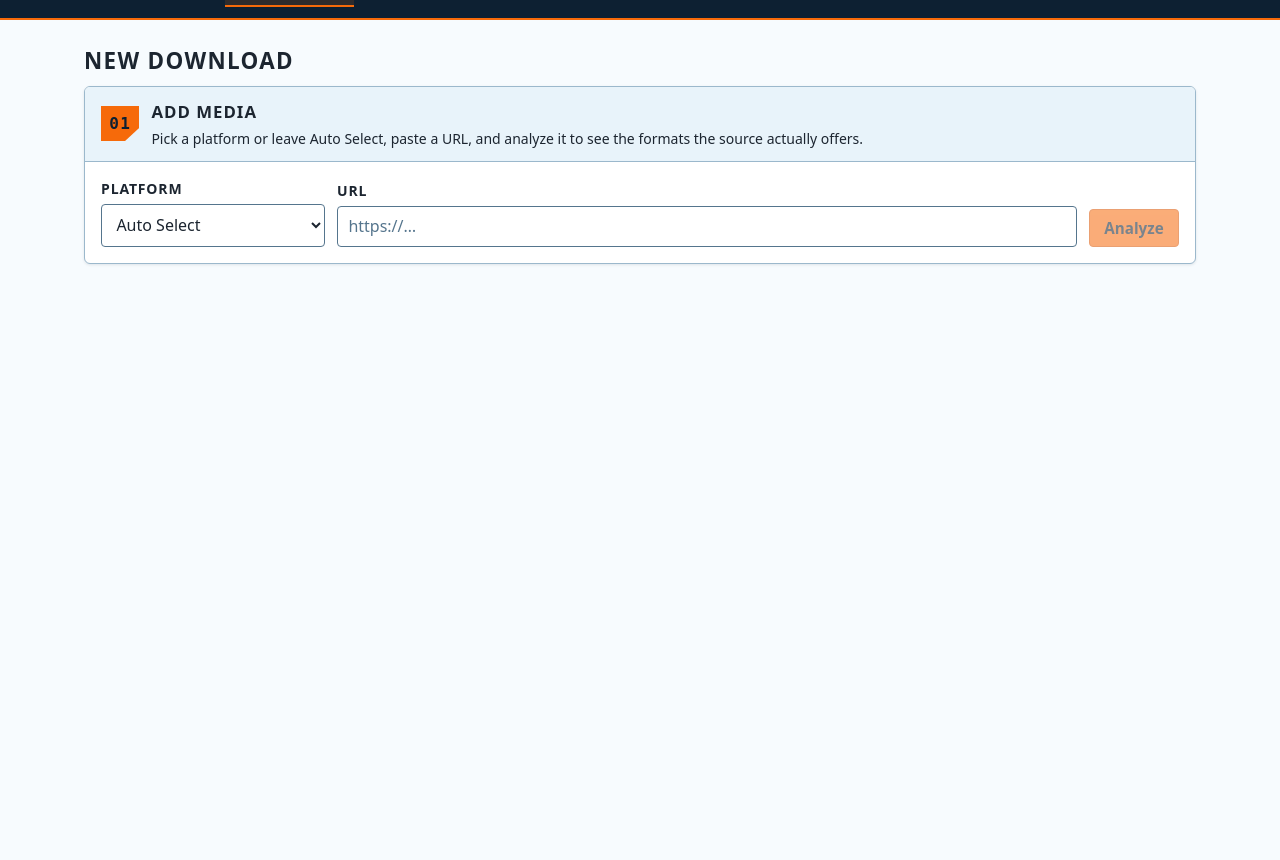
Test: NewDownloadPage activity flow › loads REST history on expand and appends matching live SSE events
The width and height of the screenshot is (1280, 860).
Type "https://www.youtube.com/watch?v=abc123" into the field labelled "URL". click: [707, 226]
box: [337,206,1077,247]
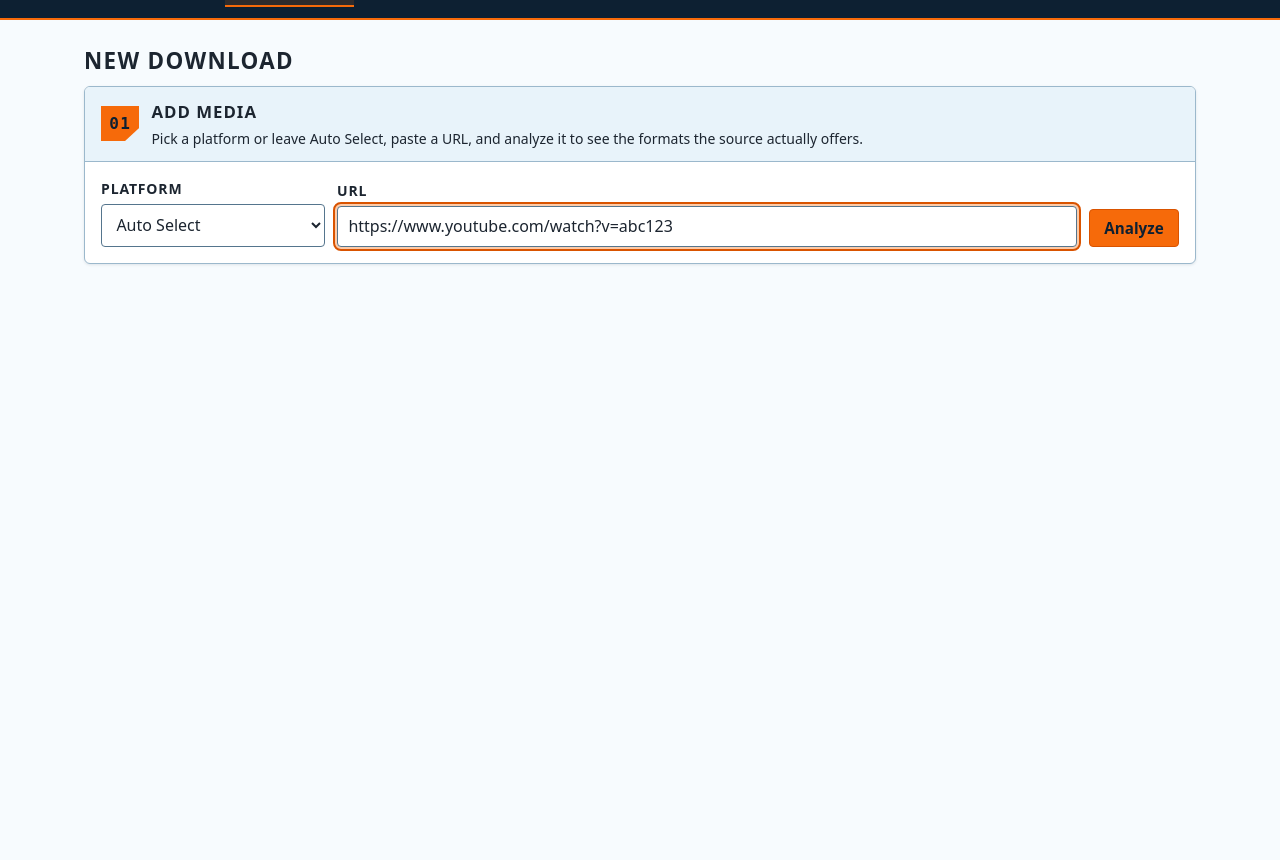
Click the button "Analyze". click: [1134, 228]
box: [1089,209,1179,247]
(page scrolled)
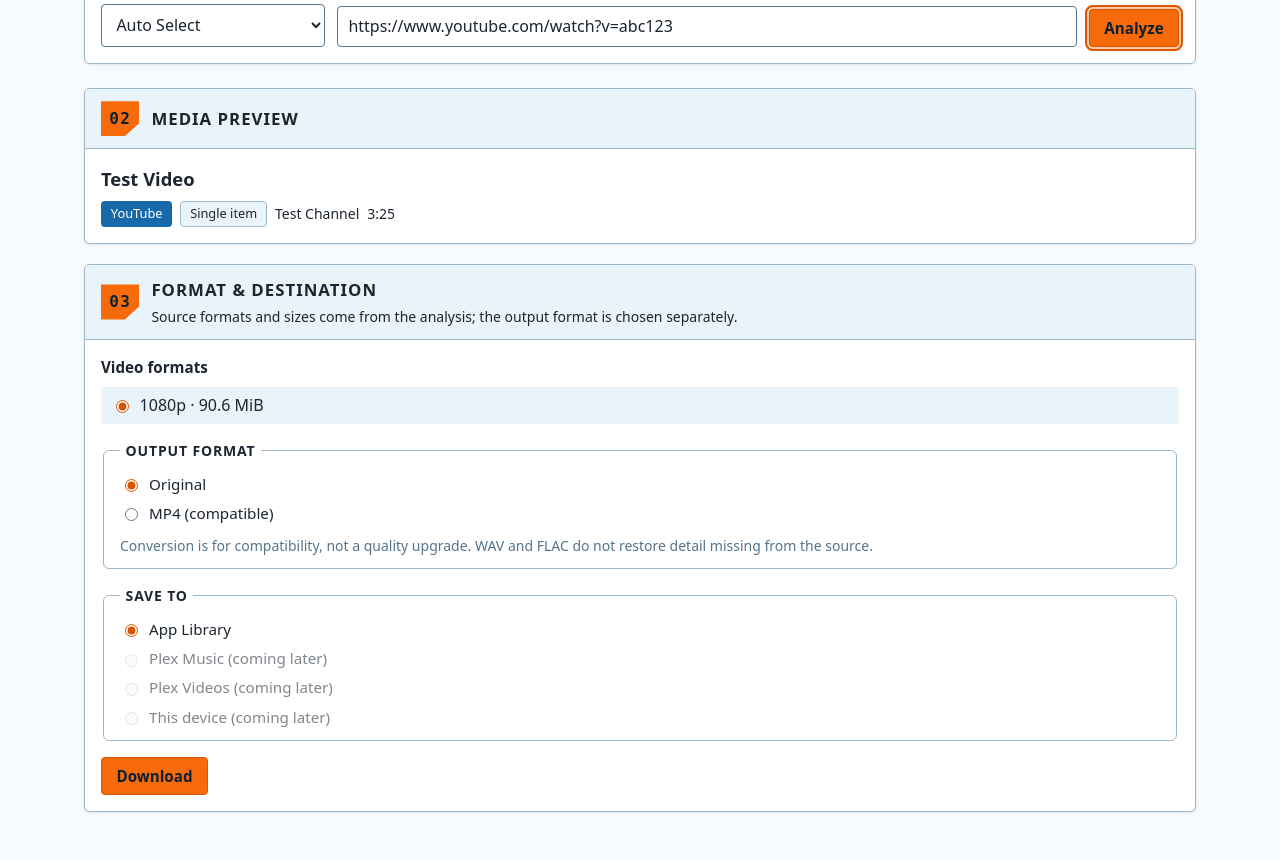
Now the heading "Test Video" is shown, box [101,166,195,191]
Click the button "Download". click: [154, 776]
box: [101,757,208,795]
(page scrolled)
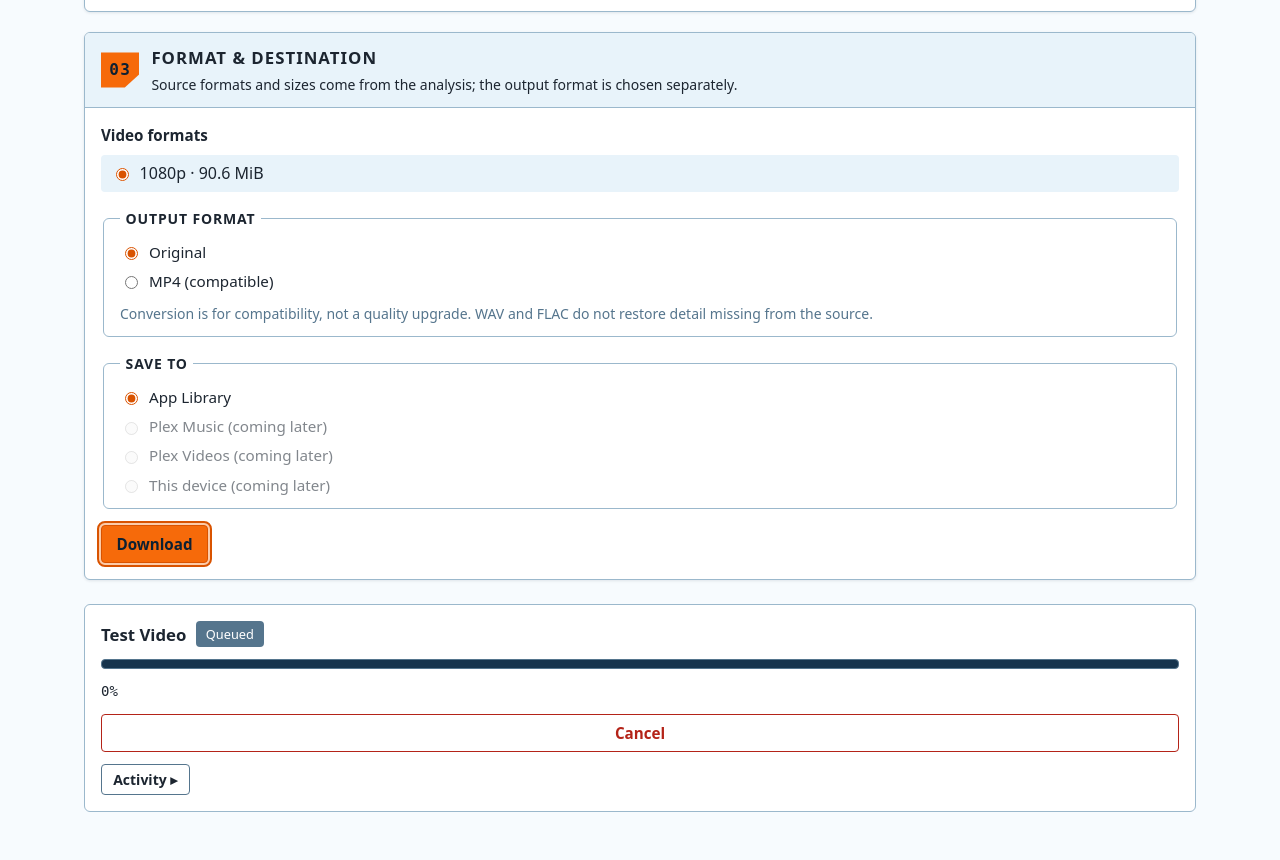
Now the text "Queued" is shown, box [196,621,264,647]
Click the button "Activity ▸". click: [145, 779]
box: [101,764,190,795]
(page scrolled)
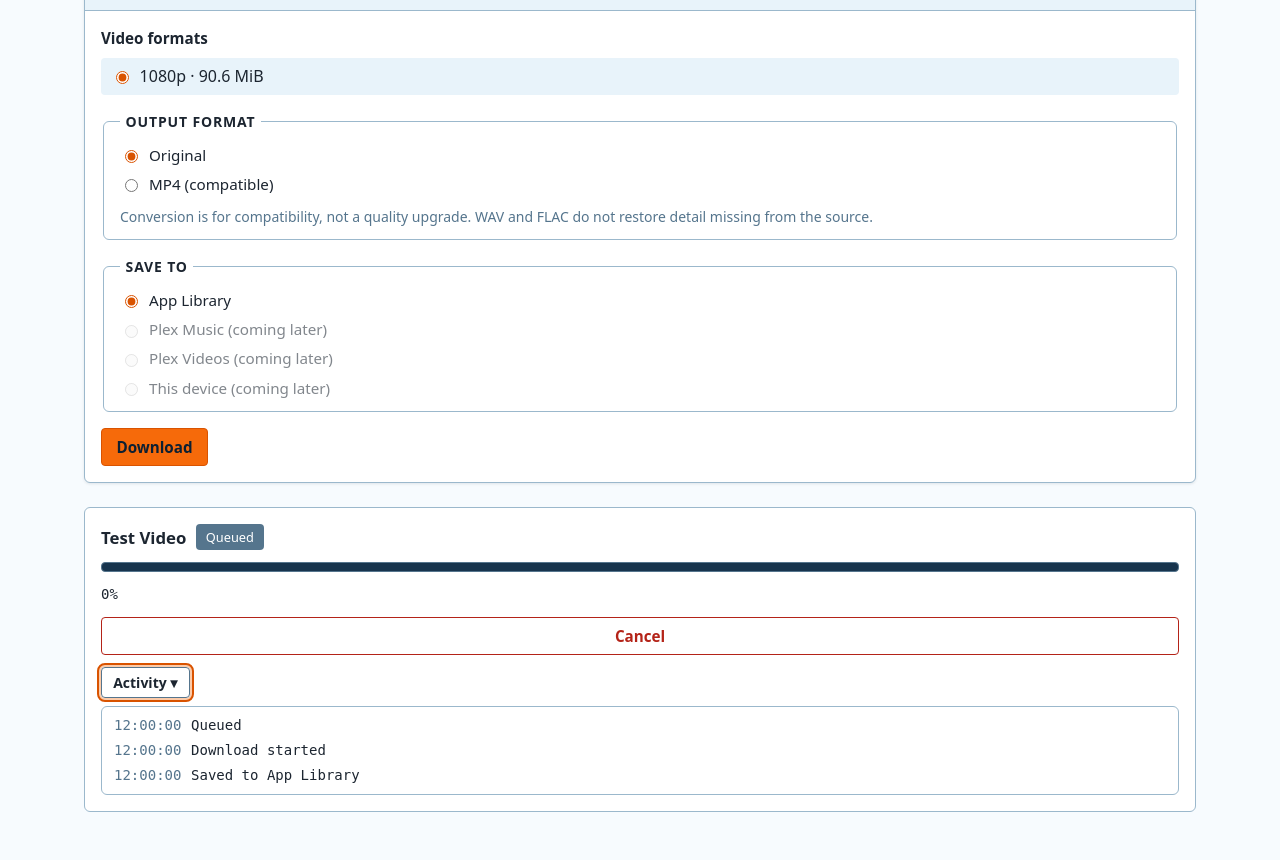
Now the text "Download started" is shown, box [191,740,326,760]
Now the text "Saved to App Library" is shown, box [191,764,360,786]
